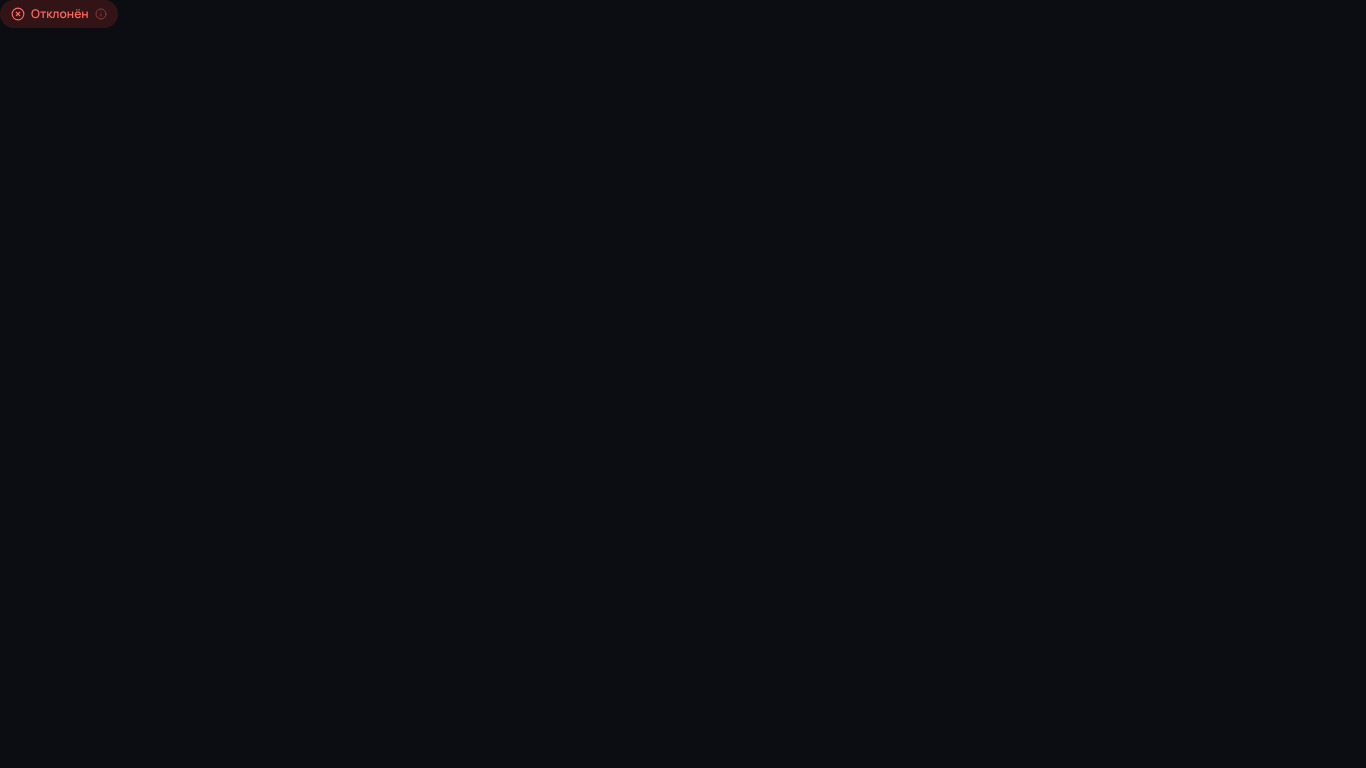
Scenario: StoreStatusBadge › shows a neutral explanation to non-owners and displays the rejection reason
Click the button with aria-label "Статус магазина: Отклонён" at coordinates (59, 14), box left=0, top=0, right=118, bottom=28
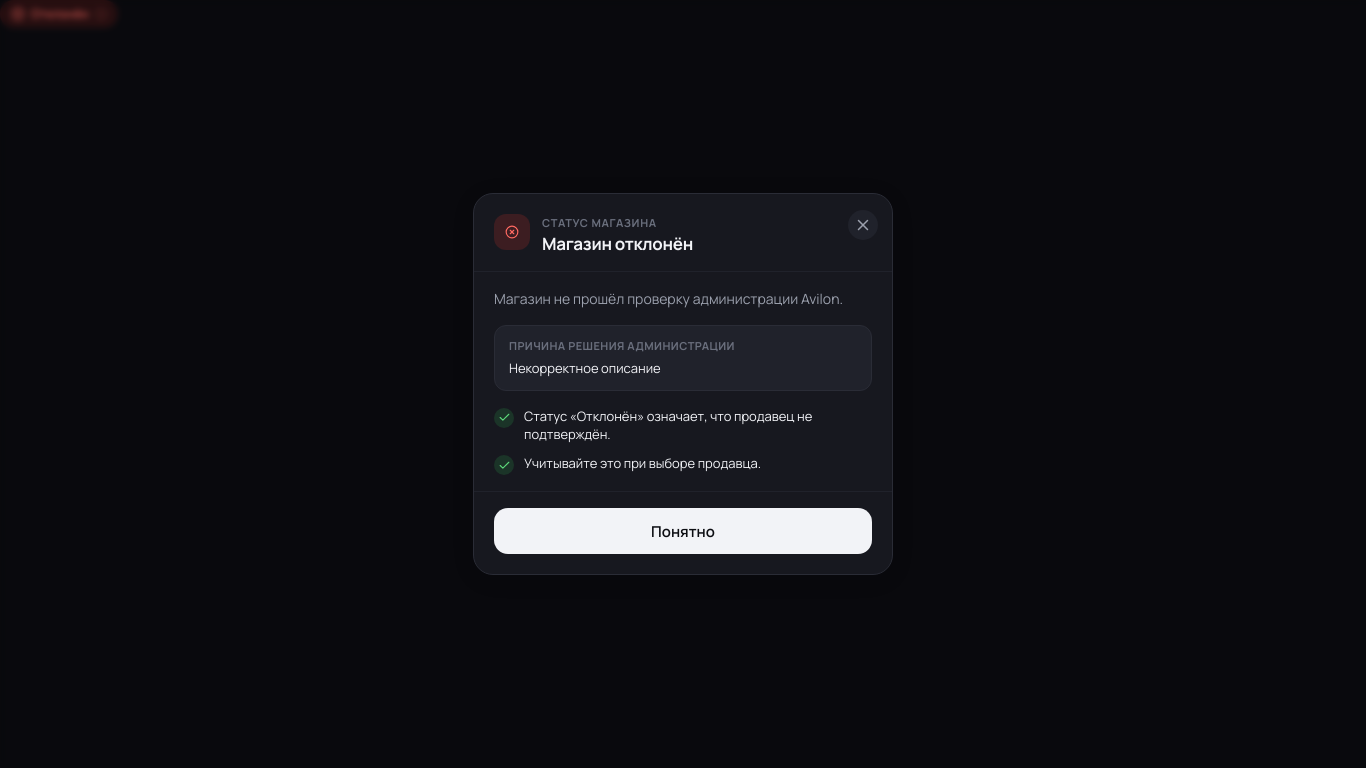
expect the dialog is shown: met, box left=473, top=193, right=893, bottom=575
expect the text "Некорректное описание" is shown: met, box left=509, top=359, right=661, bottom=377
expect the text "Магазин не прошёл проверку администрации Avilon." is shown: met, box left=494, top=288, right=872, bottom=309
